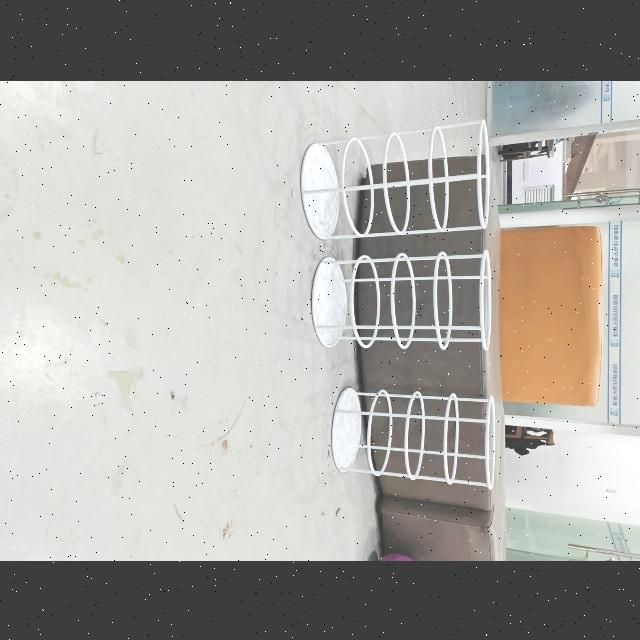S: (300, 122, 492, 242), (309, 250, 491, 348), (329, 390, 496, 484)
